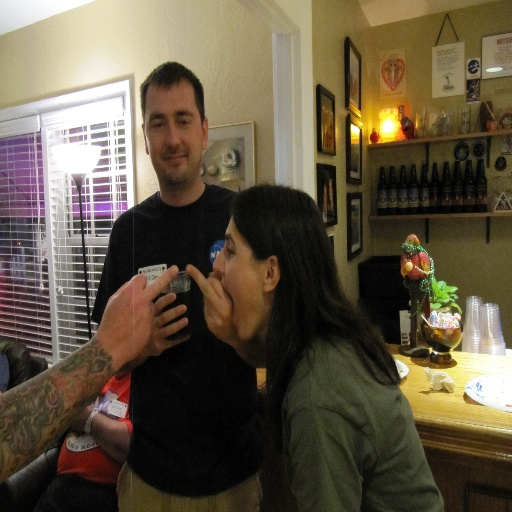hand: (98, 262, 179, 361), (185, 264, 235, 347), (141, 290, 190, 361), (73, 405, 92, 433)
